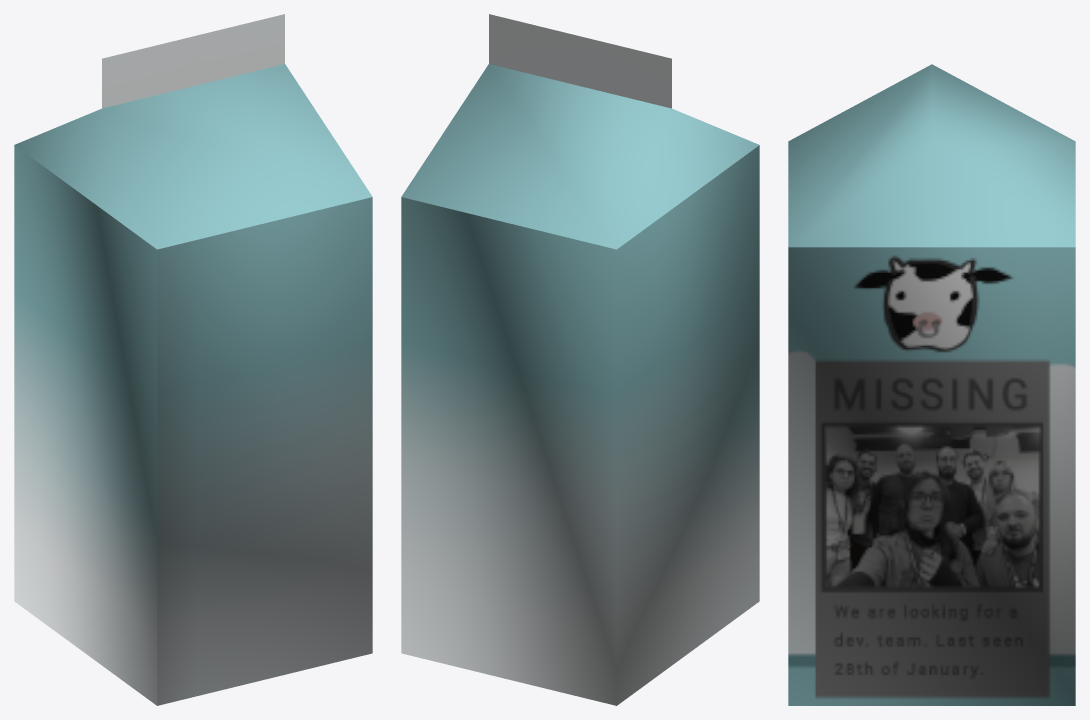
Rendered from latte.fbx.
The picture shows the model from 3 angles, left to right: view 1: azimuth 30°, elevation 25°; view 2: azimuth 150°, elevation 25°; view 3: azimuth 270°, elevation 25°; orthographic projection.
Parts seen in each view (by area): view 1: Cylinder.001; view 2: Cylinder.001; view 3: Cylinder.001.
Boxes of the visible parts, x1,y1,x2,y2 form: Cylinder.001: [14, 14, 372, 705]; Cylinder.001: [401, 14, 759, 705]; Cylinder.001: [788, 64, 1075, 705].
Bounding box in the file's own units: 7.14 × 18.71 × 8.2.
